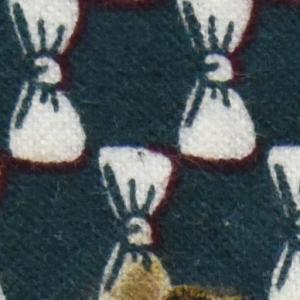Damage: (161, 285, 216, 300)
Oil Stain: (101, 256, 254, 300)
